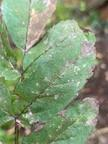powdery_mildew: (8, 5, 102, 137)
